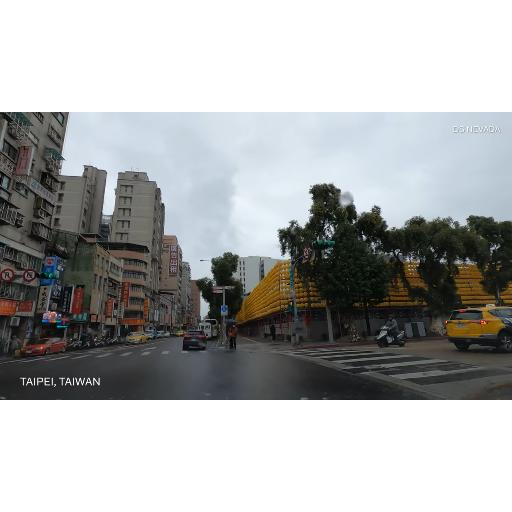Car: (440, 300, 512, 352), (22, 332, 70, 358), (182, 326, 208, 354), (203, 318, 221, 340), (196, 318, 214, 340), (127, 330, 149, 344), (163, 329, 171, 339)
